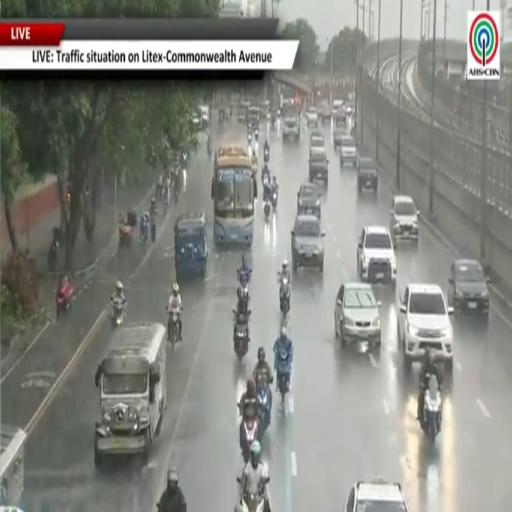bus: (212, 144, 257, 245), (0, 425, 26, 506)
car: (398, 283, 453, 370), (335, 282, 381, 348), (357, 226, 396, 285), (448, 260, 489, 315), (344, 477, 409, 511), (291, 215, 325, 273), (390, 196, 419, 243), (297, 183, 321, 219), (357, 156, 378, 193), (309, 148, 329, 183), (340, 135, 357, 167), (333, 116, 345, 150), (310, 131, 326, 152), (318, 102, 330, 123), (331, 100, 344, 118), (199, 105, 210, 126), (306, 107, 318, 126), (191, 109, 201, 129)
jeepney: (95, 324, 166, 467), (174, 213, 207, 280)
motorcycle: (421, 376, 441, 440), (233, 310, 251, 361), (241, 415, 259, 462), (277, 350, 290, 404), (257, 384, 270, 437), (167, 309, 179, 348), (111, 297, 125, 328), (242, 493, 264, 511), (280, 277, 290, 316), (237, 282, 249, 310), (48, 239, 58, 271), (140, 213, 149, 243), (237, 268, 251, 286), (237, 295, 248, 315), (271, 188, 278, 212), (264, 199, 270, 219), (207, 137, 212, 158), (264, 147, 269, 164), (156, 504, 166, 511)
tricycle: (56, 275, 73, 316), (119, 212, 137, 247)
truck: (282, 102, 300, 140)
